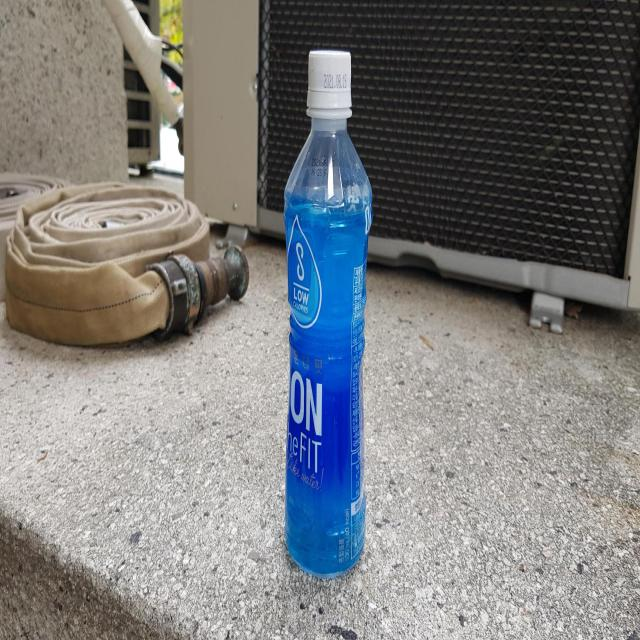plastic: (284, 49, 373, 577)
